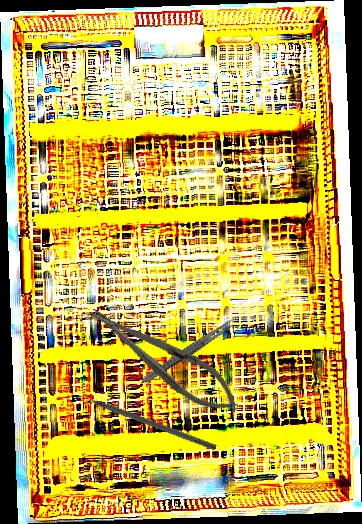Dressing Forceps: (138, 314, 239, 388)
Hook Surgical: (69, 388, 218, 452)
Needle Holder: (80, 292, 250, 426)
